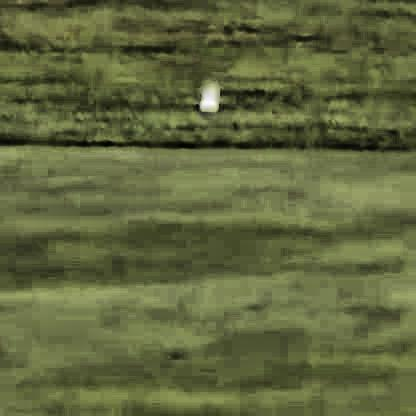golfball: (196, 81, 218, 109)
